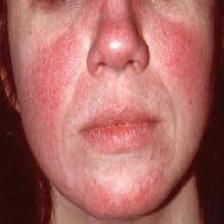Sensitif: (11, 0, 207, 204)
